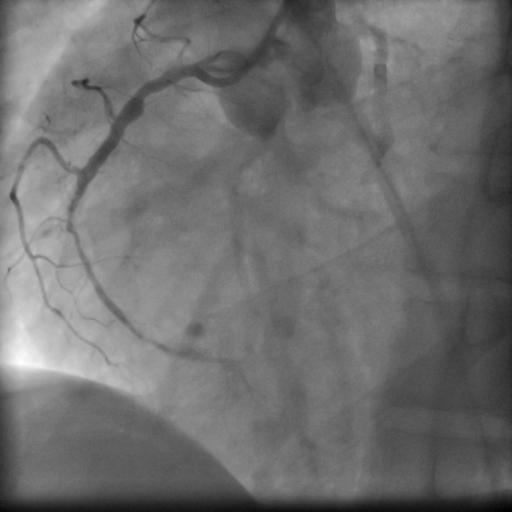Stenosis: (134, 75, 164, 103)
